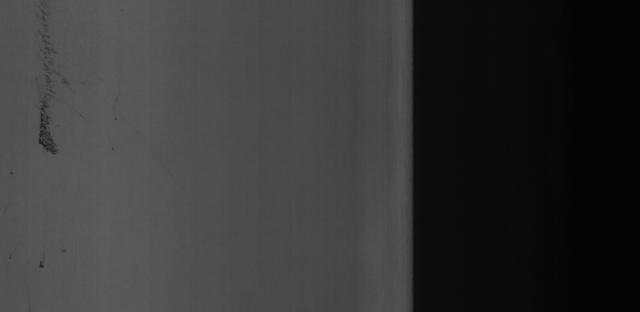inclusion: (22, 8, 70, 158), (33, 250, 52, 278)
